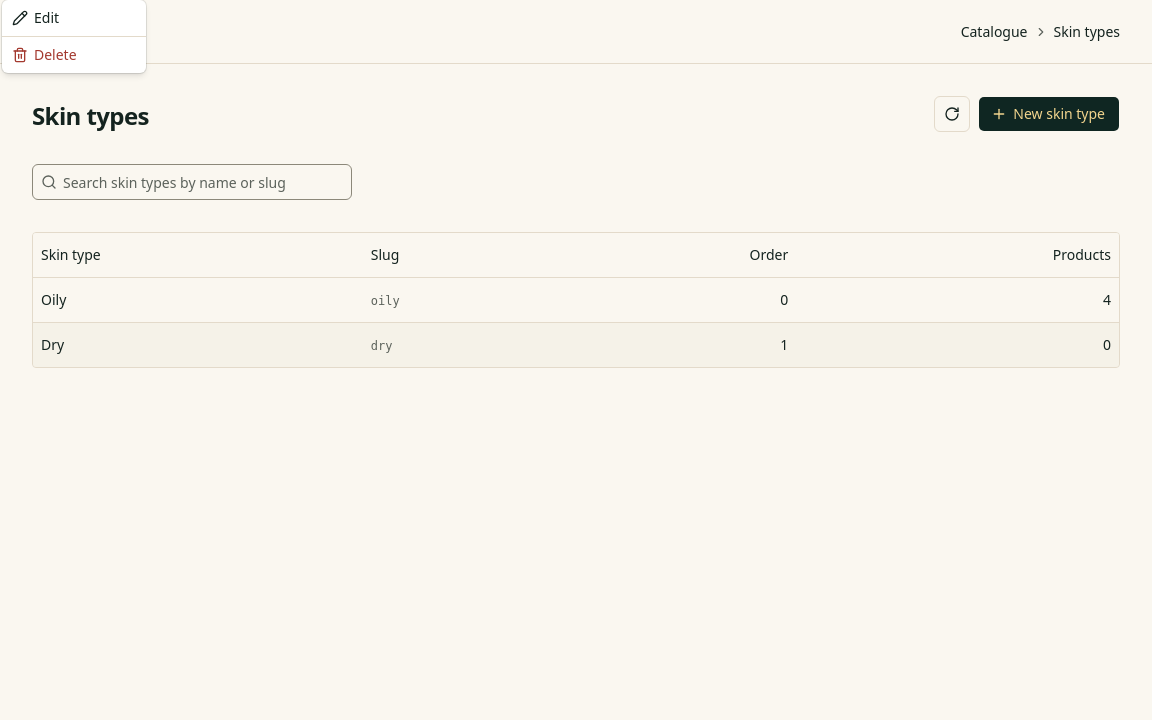
Test case: skin types › says only that it cannot be undone when no product uses it
Click the menu item "Delete".
click(44, 54)  # box left=12, top=45, right=77, bottom=64
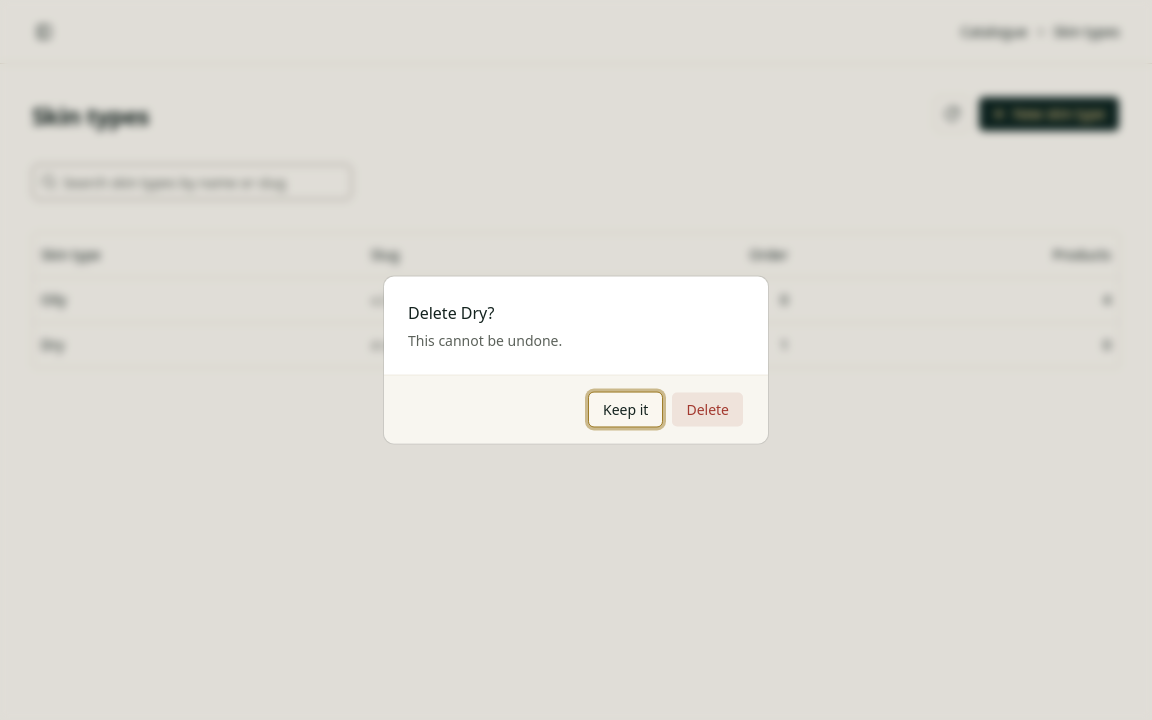
Expected: the dialog does not show "Removes it from", left=384, top=276, right=768, bottom=444
Now the text "This cannot be undone." is shown, box left=408, top=330, right=562, bottom=350
